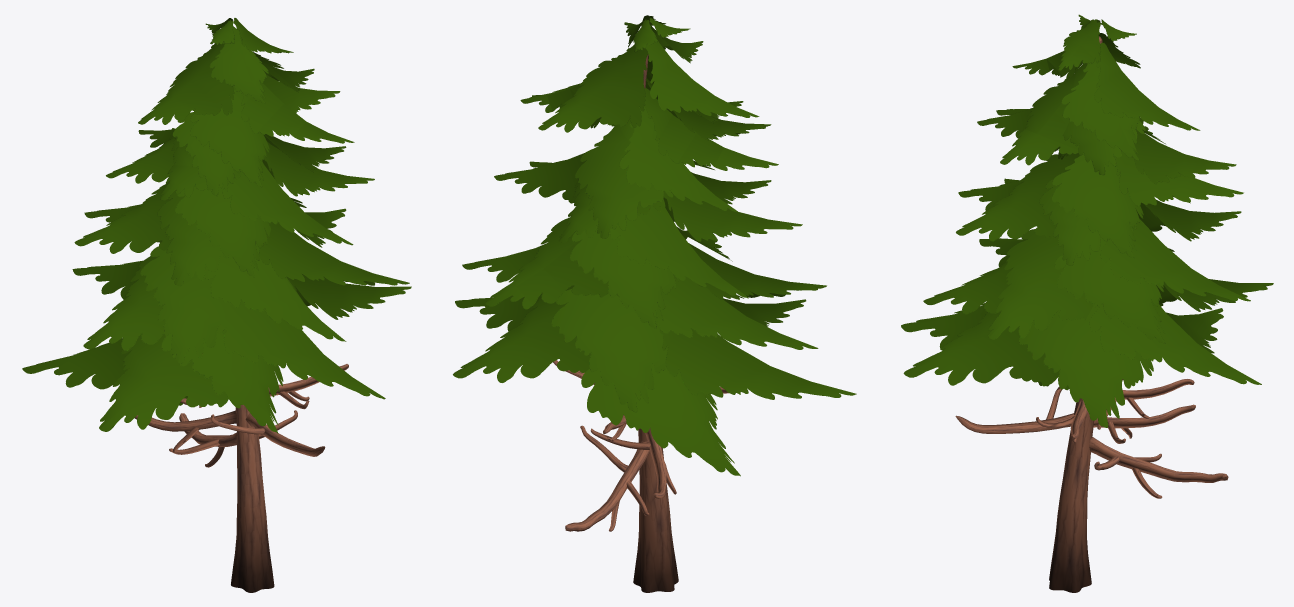
Rendered from Pine_1.glb.
3 views of the same model, side by side, from view 1: azimuth 30°, elevation 25°; view 2: azimuth 150°, elevation 25°; view 3: azimuth 270°, elevation 25° (orthographic). The views are drawn at different scales.
Parts seen in each view (by area): view 1: Pine_1; view 2: Pine_1; view 3: Pine_1.
Boxes of the visible parts, x1,y1,x2,y2 form: Pine_1: (22,18,411,592); Pine_1: (453,15,856,592); Pine_1: (901,14,1273,592).
Bounding box in the file's own units: 4.94 × 7.32 × 4.54.
Materials: 2 (2 with a texture image).
